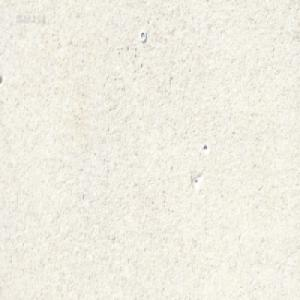Washer: (139, 30, 146, 42)
